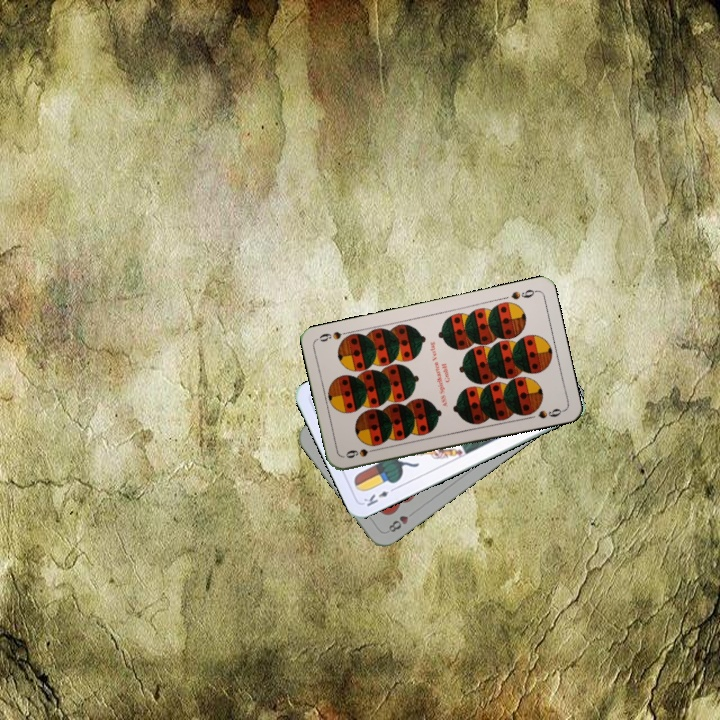EK: (359, 483, 399, 509)
H8: (385, 507, 418, 535)
S9: (341, 444, 381, 461), (507, 285, 539, 302)
